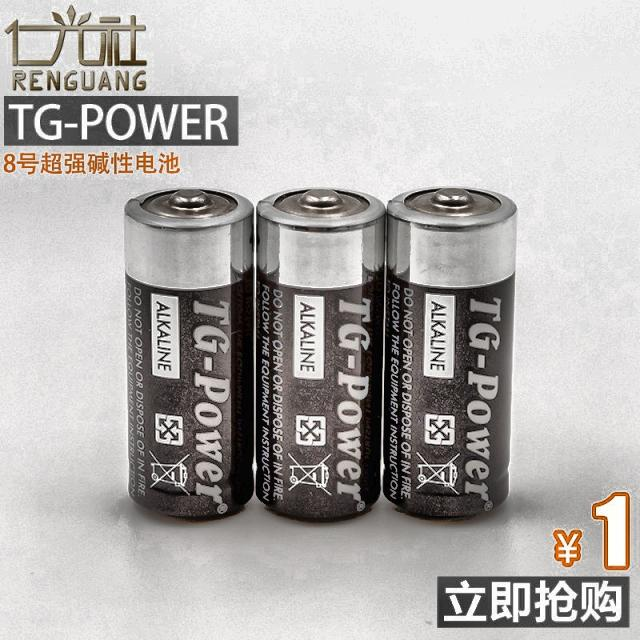Non-Valuable Waste - Batteries: (382, 188, 516, 518), (256, 189, 385, 519), (125, 189, 254, 518)
